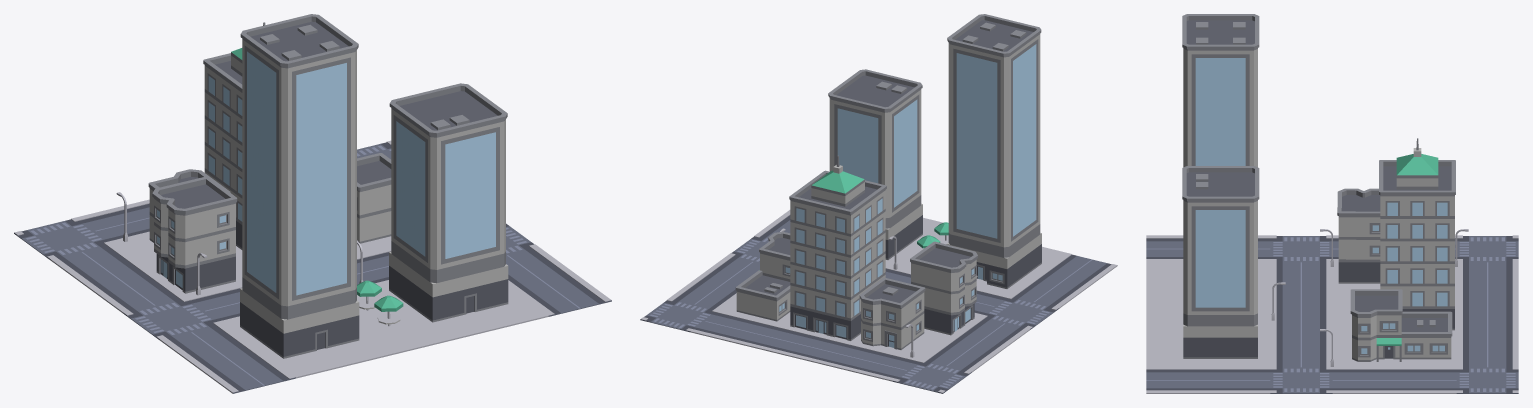
The model's file is city_block2.fbx.
3 renders of one model, left to right at view 1: azimuth 30°, elevation 25°; view 2: azimuth 150°, elevation 25°; view 3: azimuth 270°, elevation 25°, orthographic. The views are drawn at different scales.
Visible parts, largest first — view 1: skyscraperB, skyscraperA, small_buildingA, skyscraperE, small_buildingE, road_straight__5_, road_straight__6_, road_straight__15_, road_straight__7_, road_straight__4_, road_crossroadPath, road_crossroadPath__2_ (+14 smaller); view 2: skyscraperB, skyscraperE, skyscraperA, small_buildingA, small_buildingB, small_buildingE, road_straight__9_, road_straight__10_, road_crossroadPath__2_, road_straight__8_, road_straight__11_, road_crossroadPath__3_ (+13 smaller); view 3: skyscraperA, skyscraperB, skyscraperE, small_buildingE, small_buildingA, road_straight__13_, road_straight__14_, road_straight__15_, road_straight__12_, road_crossroadPath__1_, road_crossroadPath__3_, road_straight__11_ (+24 smaller).
Boxes of the visible parts, x1=… form: skyscraperB: x1=240, y1=14, x2=359, y2=358; skyscraperA: x1=389, y1=83, x2=508, y2=322; small_buildingA: x1=152, y1=176, x2=237, y2=293; skyscraperE: x1=203, y1=22, x2=265, y2=249; small_buildingE: x1=357, y1=153, x2=391, y2=243; road_straight__5_: x1=196, y1=350, x2=295, y2=393; road_straight__6_: x1=87, y1=270, x2=186, y2=313; road_straight__15_: x1=513, y1=273, x2=611, y2=316; road_straight__7_: x1=50, y1=244, x2=149, y2=286; road_straight__4_: x1=160, y1=324, x2=259, y2=366; road_crossroadPath: x1=123, y1=297, x2=222, y2=340; road_crossroadPath__2_: x1=14, y1=217, x2=113, y2=260; skyscraperB: x1=946, y1=14, x2=1041, y2=288; skyscraperE: x1=789, y1=155, x2=886, y2=340; skyscraperA: x1=828, y1=69, x2=922, y2=259; small_buildingA: x1=910, y1=241, x2=977, y2=335; small_buildingB: x1=859, y1=277, x2=925, y2=349; small_buildingE: x1=735, y1=231, x2=790, y2=321; road_straight__9_: x1=791, y1=335, x2=870, y2=369; road_straight__10_: x1=741, y1=322, x2=820, y2=356; road_crossroadPath__2_: x1=892, y1=359, x2=971, y2=393; road_straight__8_: x1=842, y1=347, x2=920, y2=381; road_straight__11_: x1=691, y1=310, x2=769, y2=344; road_crossroadPath__3_: x1=640, y1=298, x2=719, y2=332; skyscraperA: x1=1182, y1=166, x2=1259, y2=358; skyscraperB: x1=1182, y1=14, x2=1259, y2=167; skyscraperE: x1=1379, y1=138, x2=1455, y2=330; small_buildingE: x1=1350, y1=289, x2=1452, y2=361; small_buildingA: x1=1337, y1=188, x2=1380, y2=283; road_straight__13_: x1=1394, y1=366, x2=1456, y2=393; road_straight__14_: x1=1208, y1=366, x2=1270, y2=393; road_straight__15_: x1=1146, y1=366, x2=1208, y2=393; road_straight__12_: x1=1332, y1=366, x2=1394, y2=393; road_crossroadPath__1_: x1=1270, y1=366, x2=1332, y2=393; road_crossroadPath__3_: x1=1456, y1=366, x2=1518, y2=393; road_straight__11_: x1=1456, y1=340, x2=1518, y2=367.
Size of the model in its own units: 600 by 448 by 600.
